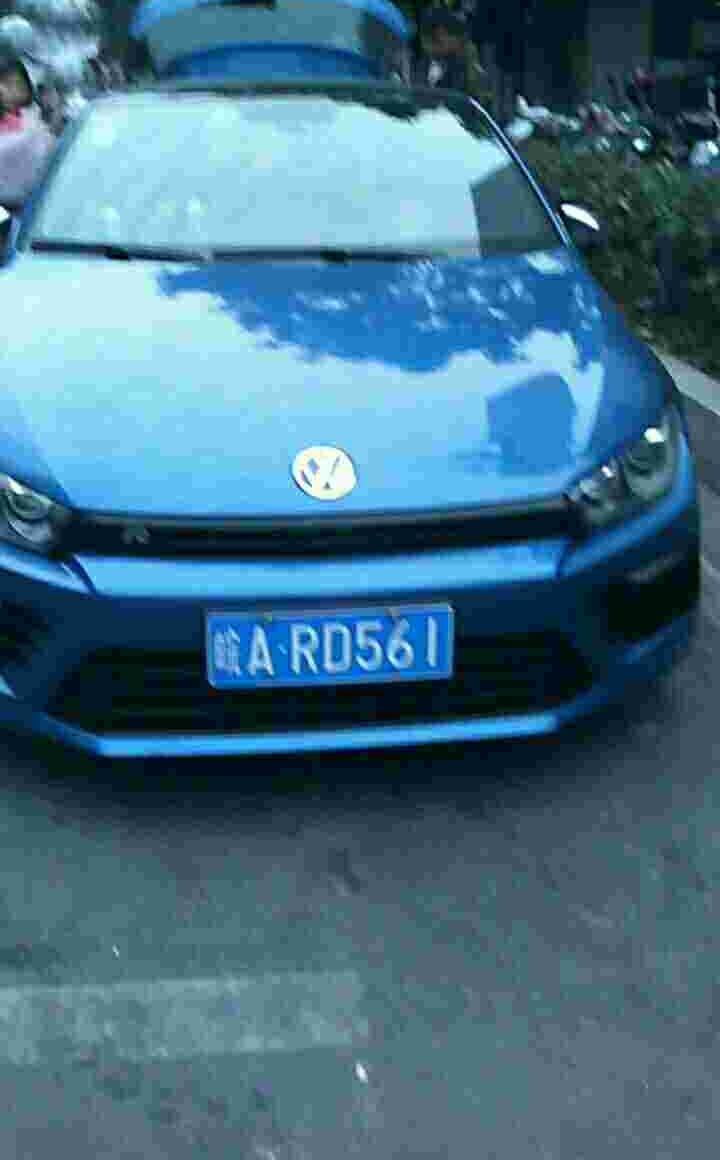license_plate: (206, 603, 457, 692)
